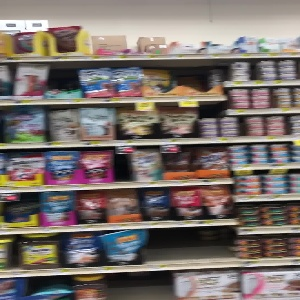void: (151, 228, 236, 263), (107, 268, 172, 299)
